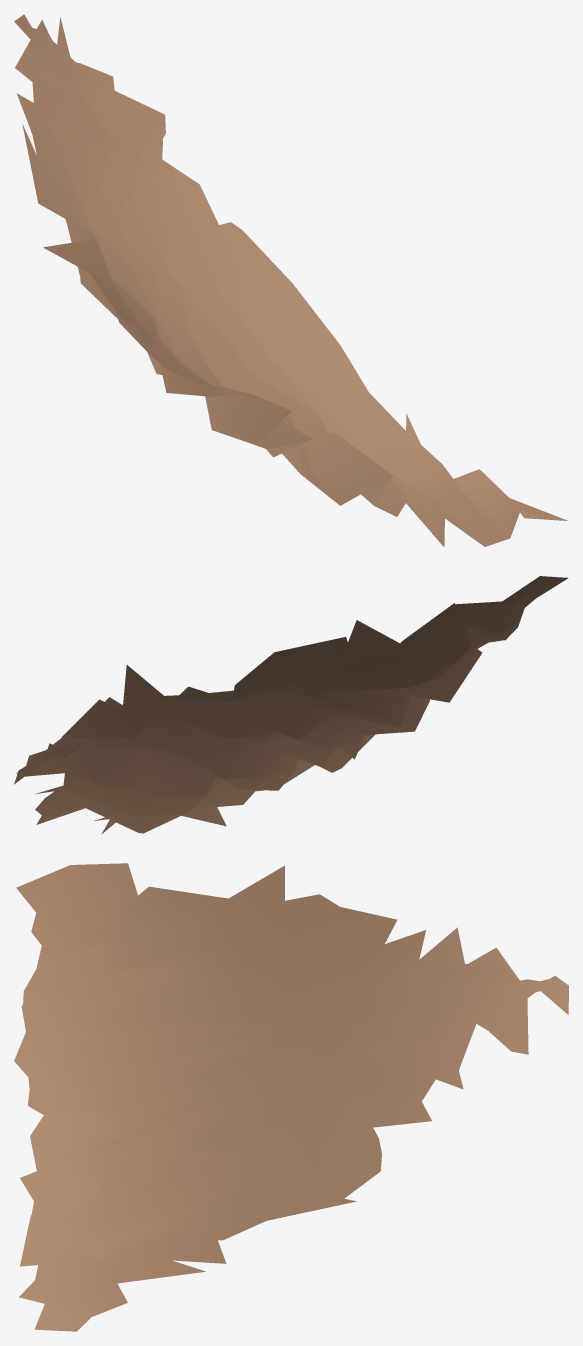
File: pottery_fragment_097.obj
3 renders of one model, top to bottom at view 1: azimuth 30°, elevation 25°; view 2: azimuth 150°, elevation 25°; view 3: azimuth 270°, elevation 25°, orthographic. The views are drawn at different scales.
Size of the model in its own units: 11.04 by 8.83 by 13.95.
